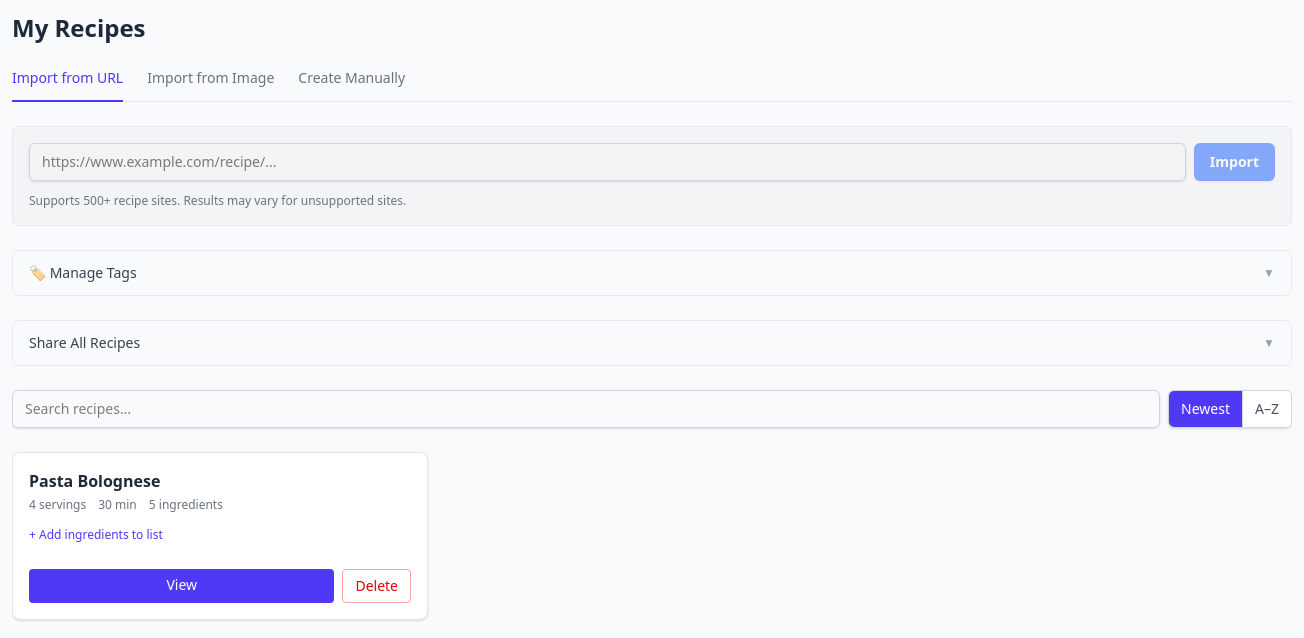
Scenario: RecipesPage › delete removes recipe from list after confirmation
Expected: the heading "Pasta Bolognese" is shown, [29, 470, 160, 492]
Step 1. Click the button "Delete" → click(377, 586), box [342, 569, 411, 603]
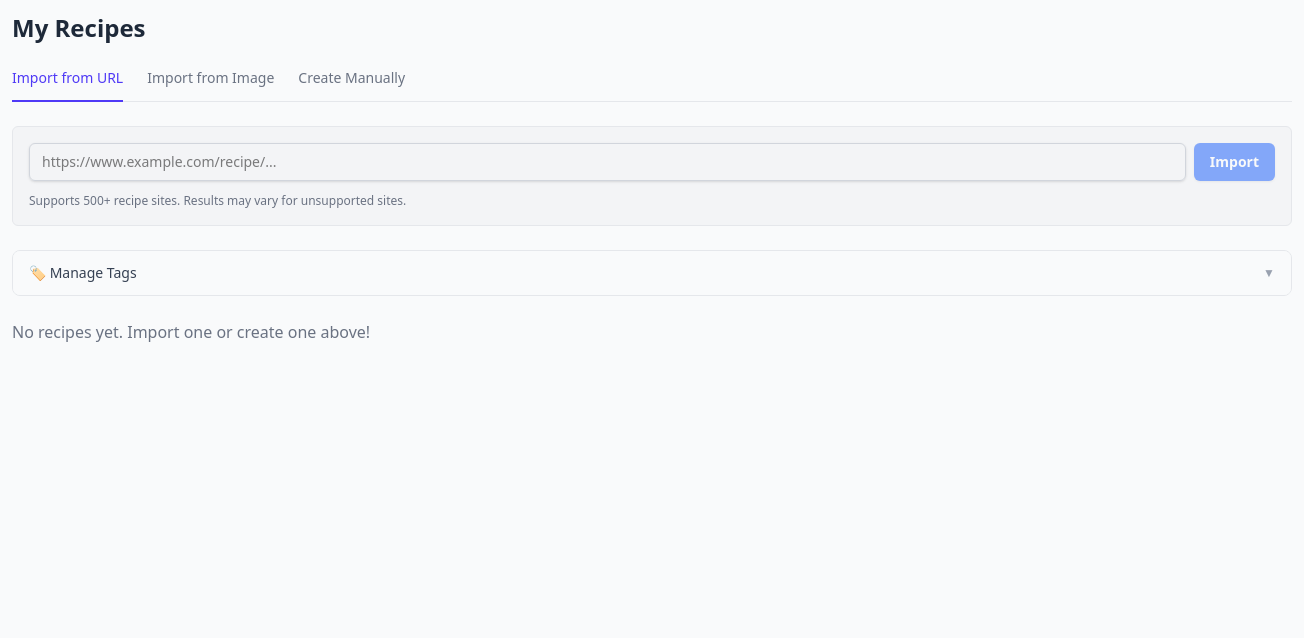
Now the heading "Pasta Bolognese" is gone
